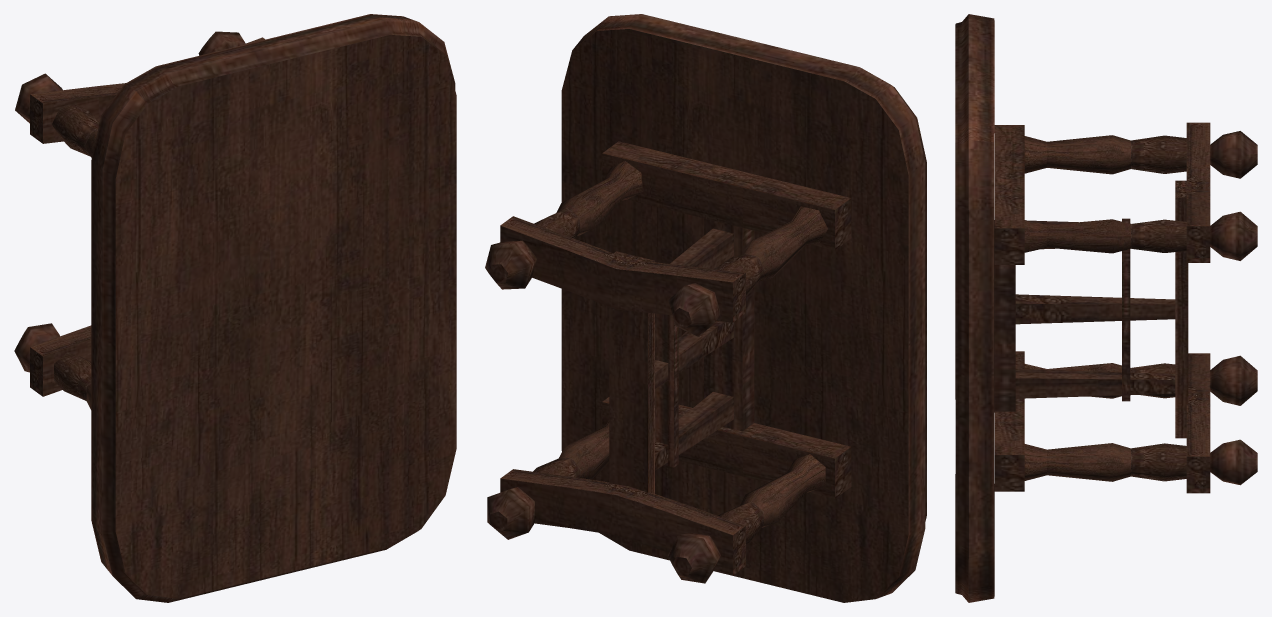
Rendered from furniture_duhoc_table.glb.
3 renders of one model, left to right at view 1: azimuth 30°, elevation 25°; view 2: azimuth 150°, elevation 25°; view 3: azimuth 270°, elevation 25°, orthographic. The views are drawn at different scales.
Bounding box in the file's own units: 43.35 × 62.25 × 35.34.
Materials: 1 (1 with a texture image).
